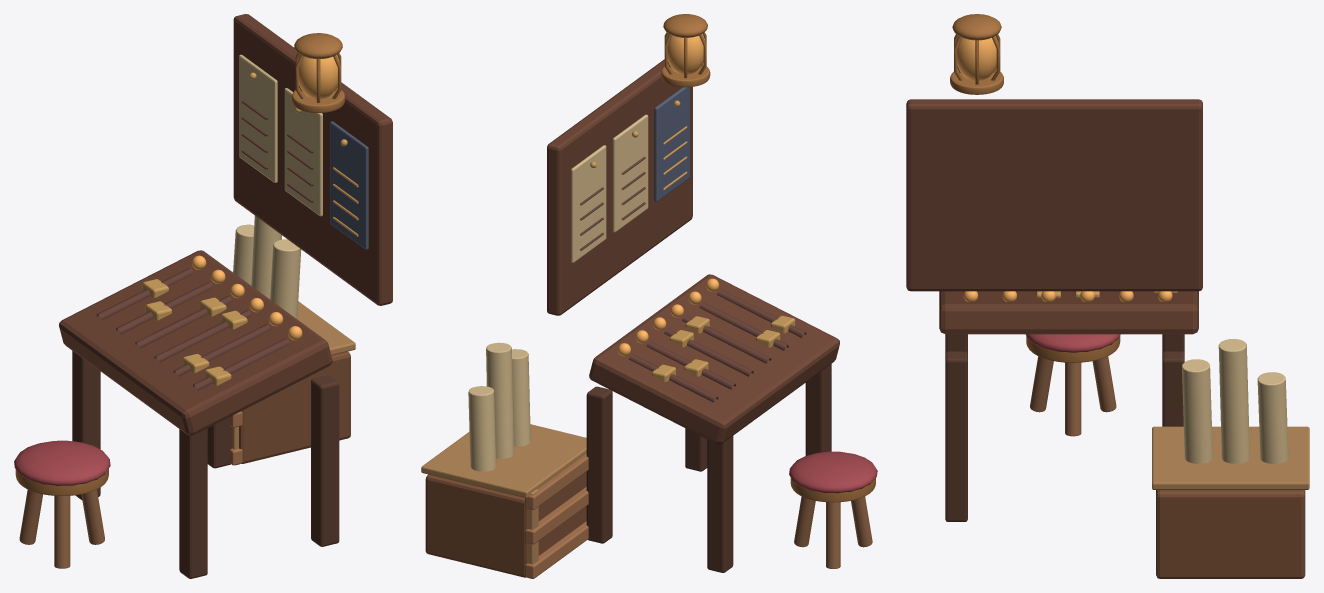
The model's file is SM_Hub_SoundDesk.fbx.
The picture shows the model from 3 angles, left to right: view 1: azimuth 30°, elevation 25°; view 2: azimuth 150°, elevation 25°; view 3: azimuth 270°, elevation 25°; orthographic projection. The views are drawn at different scales.
Visible parts, largest first — view 1: Console leg.004_Baked; view 2: Console leg.004_Baked; view 3: Console leg.004_Baked.
Part boxes in pixels (left/top/right/bottom): Console leg.004_Baked: left=14, top=14, right=392, bottom=578; Console leg.004_Baked: left=421, top=14, right=877, bottom=578; Console leg.004_Baked: left=906, top=14, right=1309, bottom=578.
Size of the model in its own units: 214 by 197 by 271.
